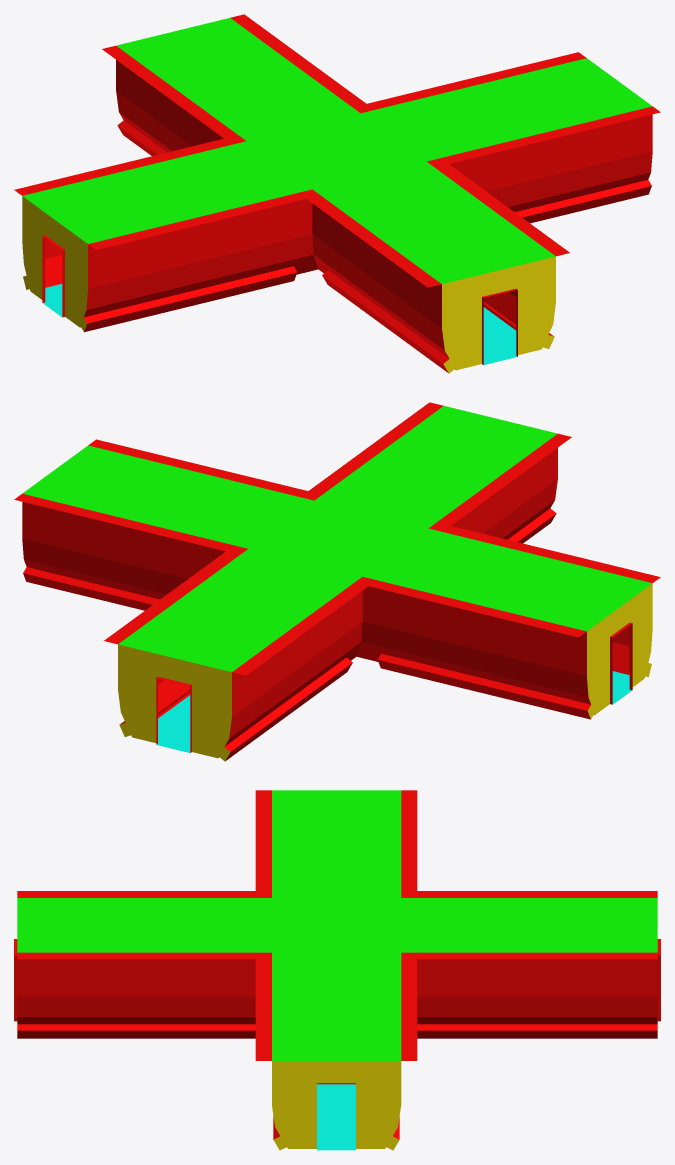
Rendered from FourWay.FBX.
3 views of the same model, one above another, from view 1: azimuth 30°, elevation 25°; view 2: azimuth 150°, elevation 25°; view 3: azimuth 270°, elevation 25° (orthographic).
Parts seen in each view (by area): view 1: Box002; view 2: Box002; view 3: Box002.
Part boxes in pixels (<box>): Box002: <box>14,14,660,373</box>; Box002: <box>14,402,660,761</box>; Box002: <box>14,790,660,1150</box>.
Size of the model in its own units: 2000 by 2000 by 305.
